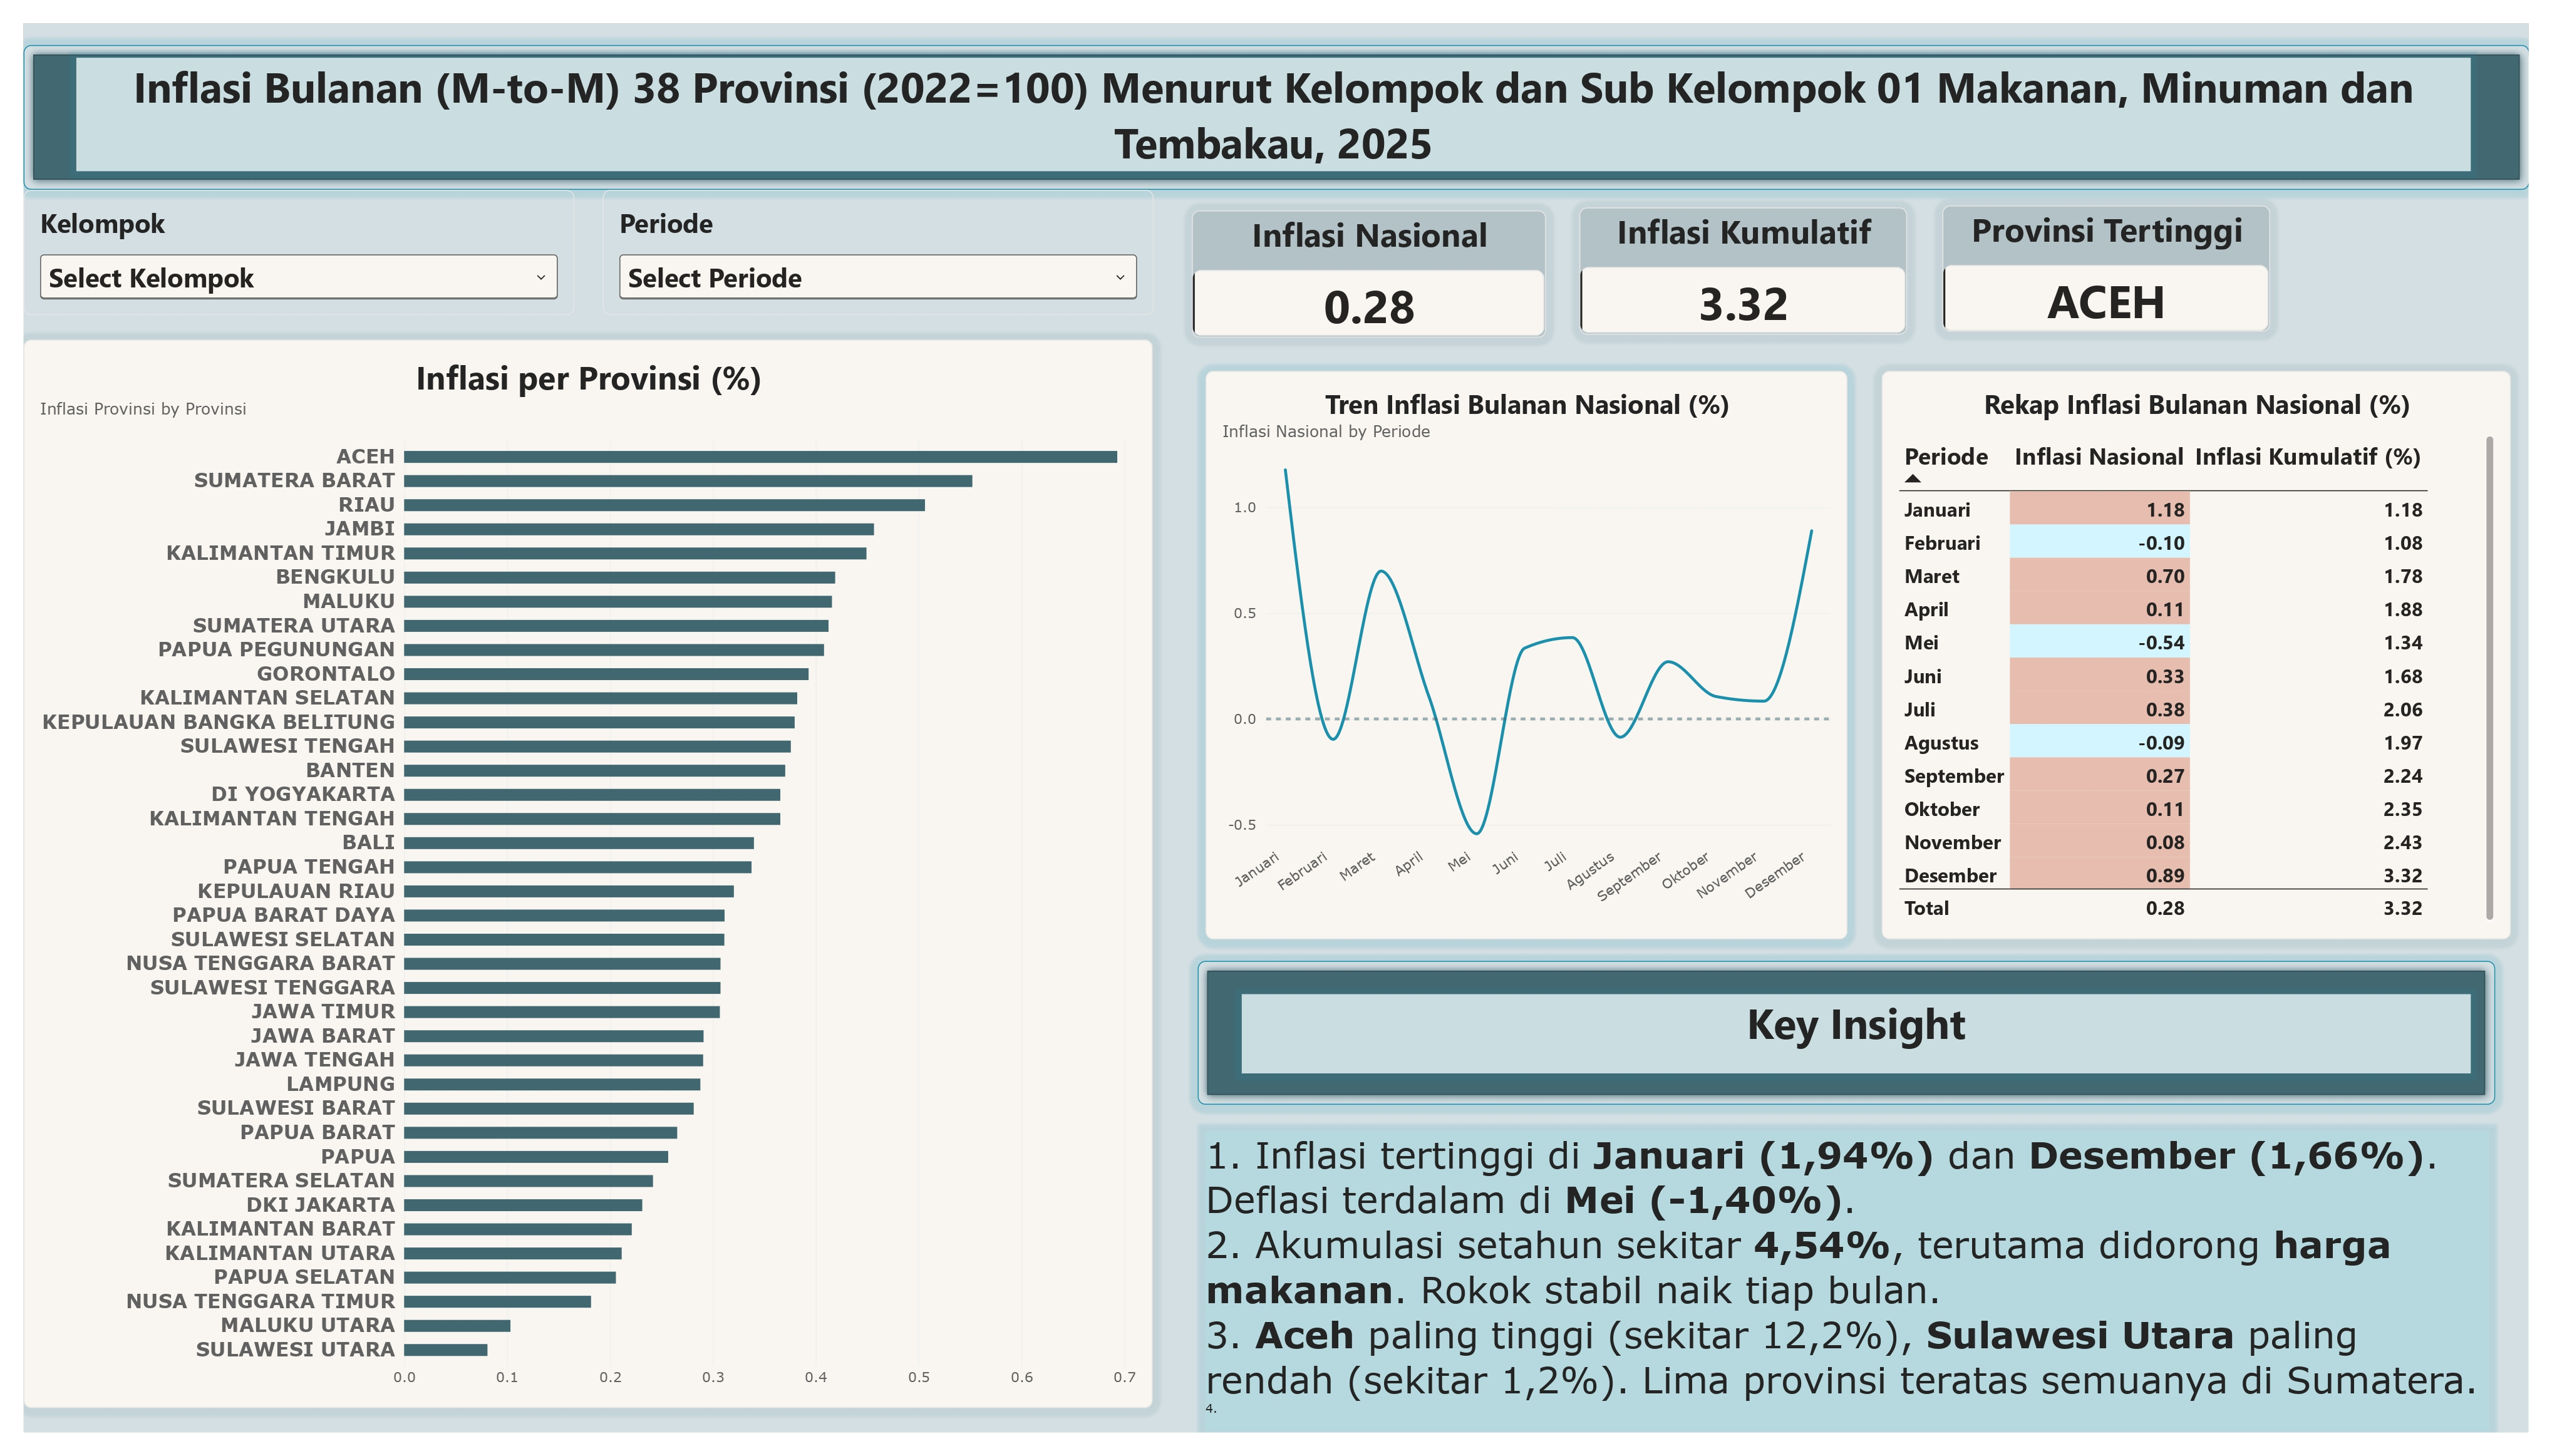

This screenshot's page, from the dashboard's own definition file:
{"tool":"powerbi","page":{"name":"Page 1","canvas":[2560,1440],"ordinal":0},"visuals":[{"type":"shape","box":[0,21.6,2560.5,148.6],"z":0},{"type":"textbox","box":[53.8,35,2447.6,115.7],"z":1000},{"type":"listSlicer","fields":{"Values":["Inflasi.Kelompok"]},"box":[0,170.2,563.2,127.6],"z":2000},{"type":"listSlicer","fields":{"Values":["Inflasi.Periode"]},"box":[591.5,170.2,563.2,127.6],"z":3000},{"type":"lineChart","title":"Tren Inflasi Bulanan Nasional (%)","fields":{"Category":["Inflasi.Periode"],"Y":["Inflasi.Inflasi Nasional"]},"box":[1207.7,355,656.3,581],"z":4000},{"type":"cardVisual","title":"Inflasi Nasional","fields":{"Data":["Inflasi.Inflasi Nasional"]},"box":[1194.2,191,361.9,129.6],"z":5000},{"type":"cardVisual","title":"Inflasi Kumulatif","fields":{"Data":["Inflasi.Inflasi Kumulatif (%)"]},"box":[1589.6,188.3,334.9,129.6],"z":6000},{"type":"cardVisual","title":"Provinsi Tertinggi","fields":{"Data":["Inflasi.Provinsi Tertinggi"]},"box":[1960.8,185.6,334.9,129.6],"z":7000},{"type":"clusteredBarChart","title":"Inflasi per Provinsi (%)","fields":{"Category":["Inflasi.Provinsi"],"Y":["Inflasi.Inflasi Provinsi"]},"box":[0,322.8,1153.9,1092],"z":8000},{"type":"tableEx","title":"Rekap Inflasi Bulanan Nasional (%)","fields":{"Values":["Inflasi.Periode","Inflasi.Inflasi Nasional","Inflasi.Inflasi Kumulatif (%)"]},"box":[1898.9,355,642.8,581],"z":9000},{"type":"shape","title":"Key Insight","box":[1199.6,957.5,1326,147.9],"z":10000},{"type":"textbox","box":[1245.3,992.5,1256.1,80.7],"z":11000},{"type":"textbox","box":[1207.7,1132.3,1312.5,306.6],"z":11001}]}

Visuals, with their boxes on the page's 2560x1440 design canvas (x1, y1, x2, y2). These are canvas units, not pixel positions in the 2552x1456 screenshot, which may show the page scaled, cropped or inside an application window:
shape: select_region(0, 22, 2560, 170)
textbox: select_region(54, 35, 2501, 151)
listSlicer - Inflasi.Kelompok: select_region(0, 170, 563, 298)
listSlicer - Inflasi.Periode: select_region(592, 170, 1155, 298)
"Tren Inflasi Bulanan Nasional (%)" lineChart: select_region(1208, 355, 1864, 936)
"Inflasi Nasional" cardVisual: select_region(1194, 191, 1556, 321)
"Inflasi Kumulatif" cardVisual: select_region(1590, 188, 1924, 318)
"Provinsi Tertinggi" cardVisual: select_region(1961, 186, 2296, 315)
"Inflasi per Provinsi (%)" clusteredBarChart: select_region(0, 323, 1154, 1415)
"Rekap Inflasi Bulanan Nasional (%)" tableEx: select_region(1899, 355, 2542, 936)
"Key Insight" shape: select_region(1200, 958, 2526, 1105)
textbox: select_region(1245, 992, 2501, 1073)
textbox: select_region(1208, 1132, 2520, 1439)
